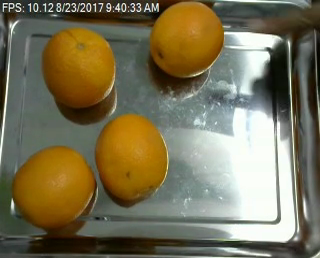Orange: (13, 146, 97, 227), (95, 113, 169, 202), (147, 1, 224, 78), (43, 26, 116, 107)
